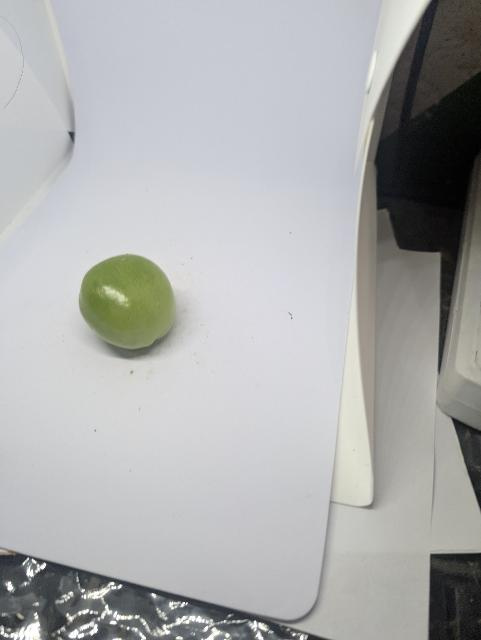green: (77, 253, 179, 352)
